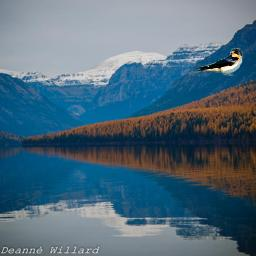Swallow: (188, 48, 243, 76)
